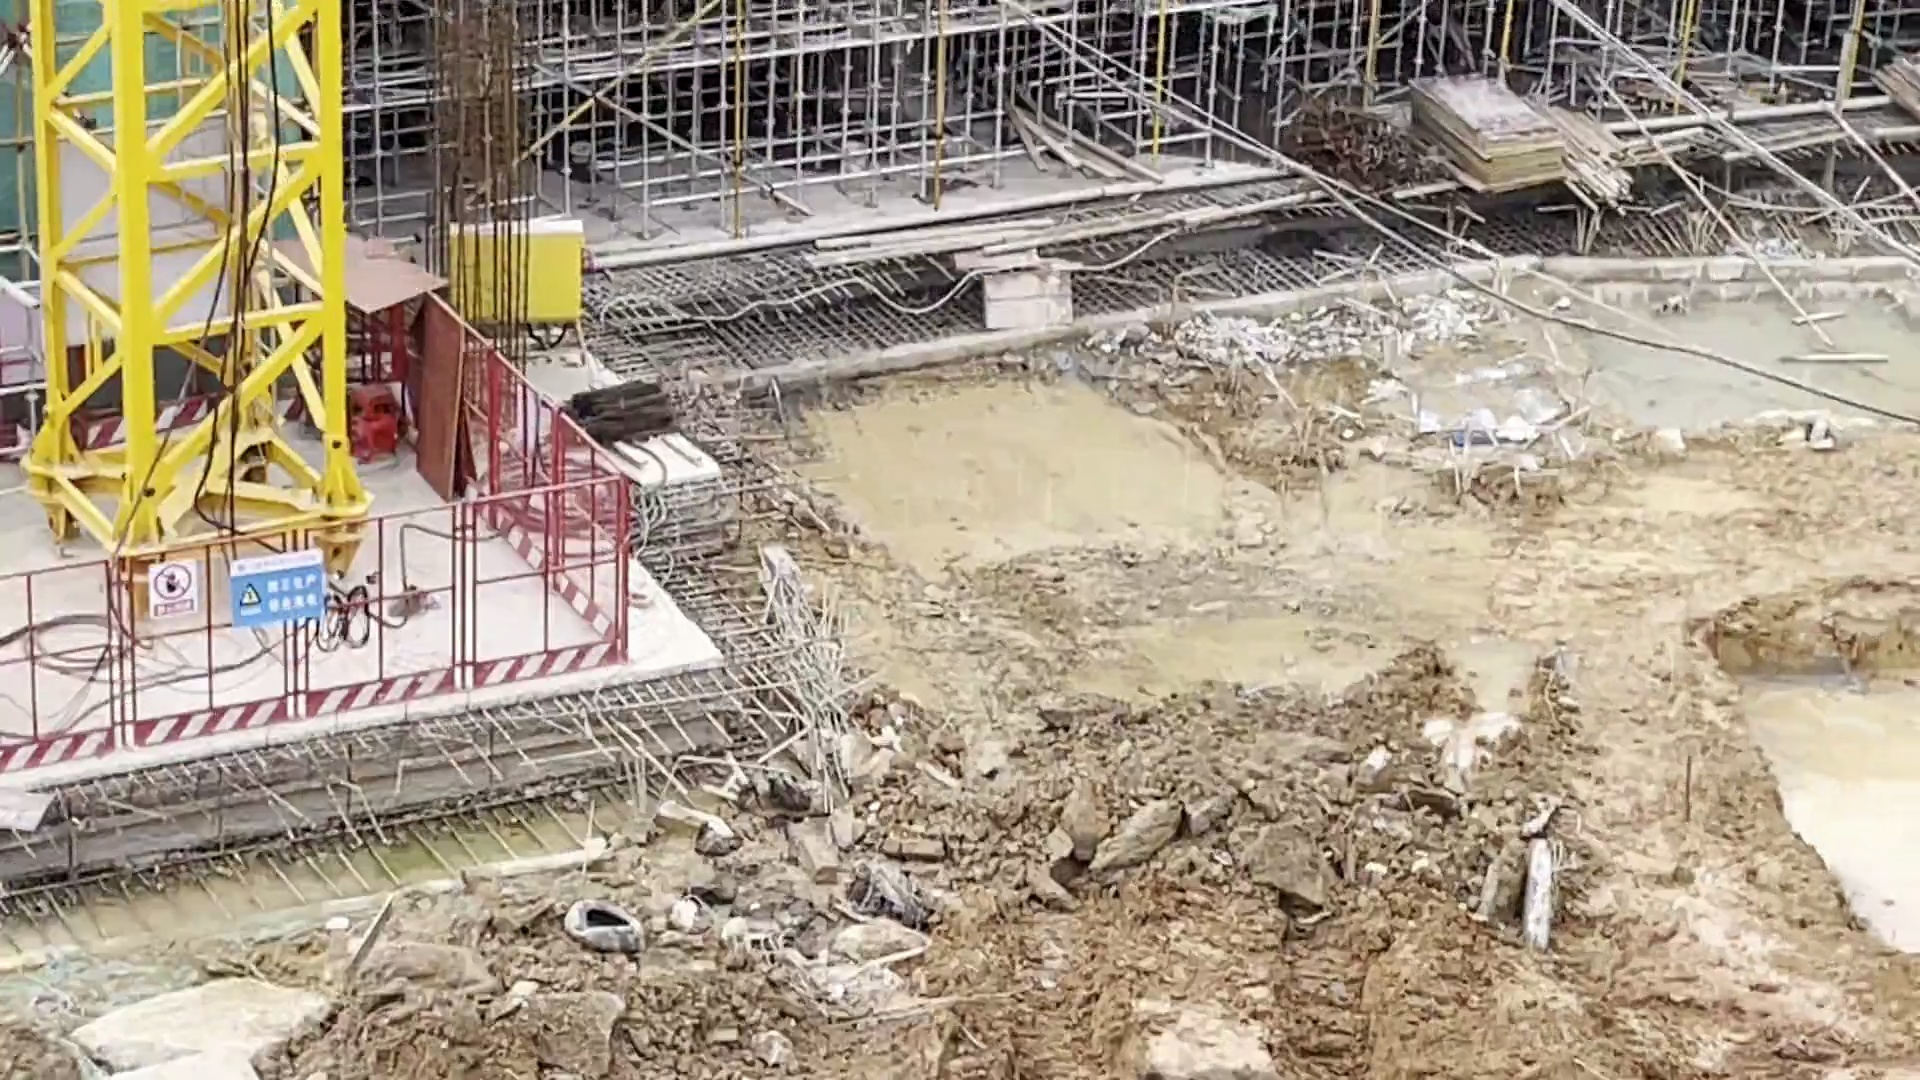board: (1418, 80, 1567, 196)
ebox: (450, 219, 574, 338)
fence: (465, 345, 617, 644), (111, 553, 295, 729), (469, 495, 621, 684), (295, 527, 458, 692), (3, 553, 111, 767)
slogan: (229, 541, 322, 626), (152, 563, 200, 617)
wood: (1538, 103, 1627, 203)
